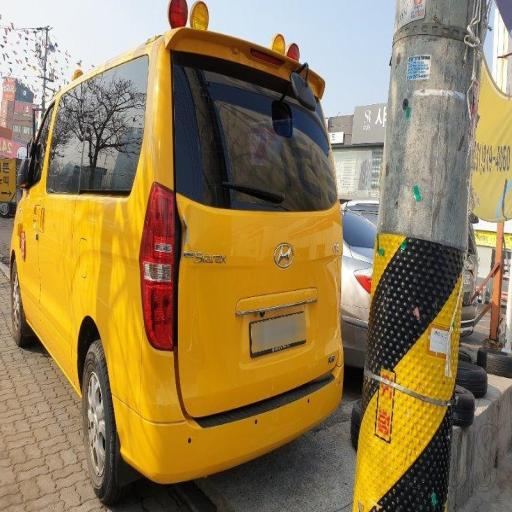dent: (76, 63, 348, 447)
